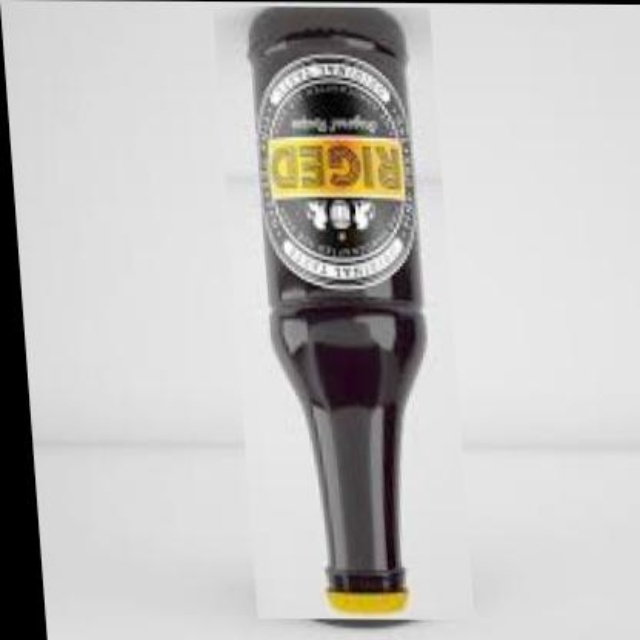trash: (249, 8, 425, 614)
